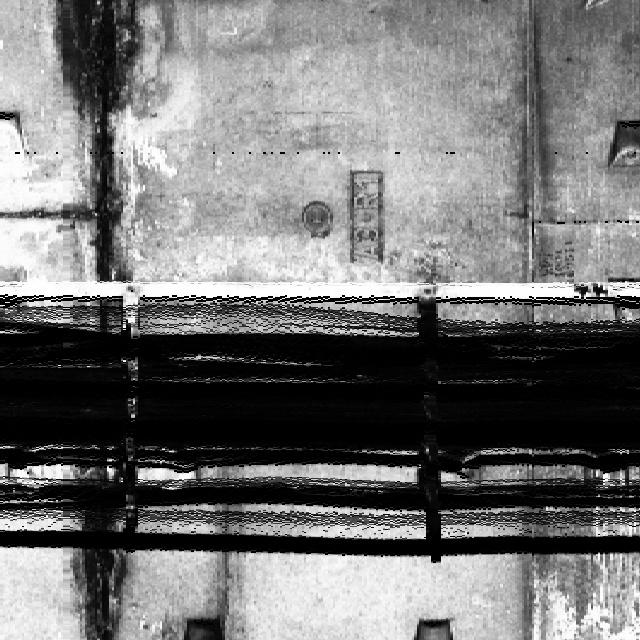leakage: (44, 0, 179, 275), (64, 469, 145, 639)
